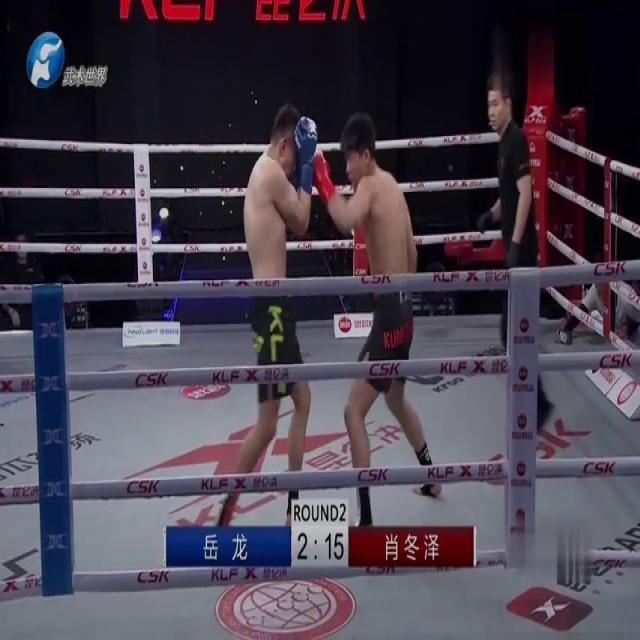fight: (214, 96, 438, 535)
non-fight: (479, 76, 551, 435), (558, 249, 639, 351)
